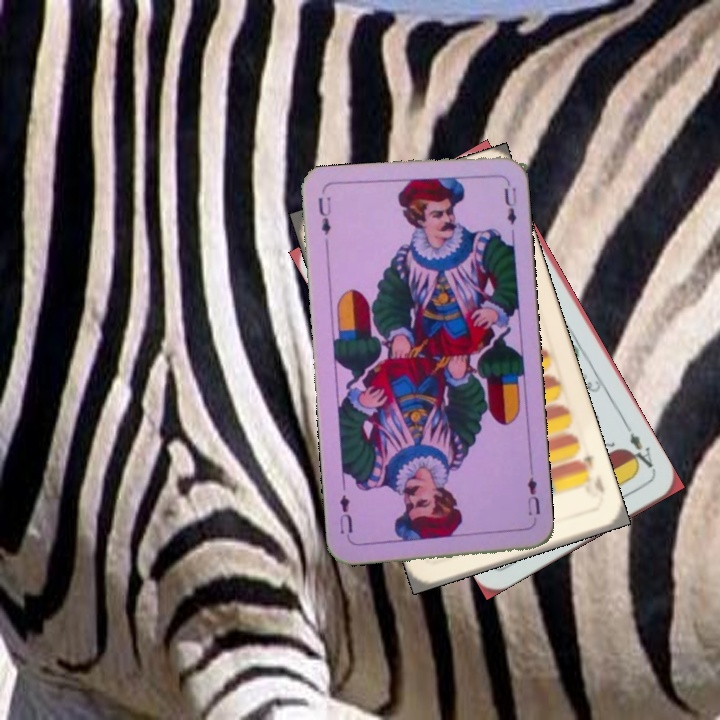E10: (573, 450, 607, 497)
EA: (622, 421, 659, 475)
EU: (523, 473, 542, 526), (314, 192, 334, 238)
